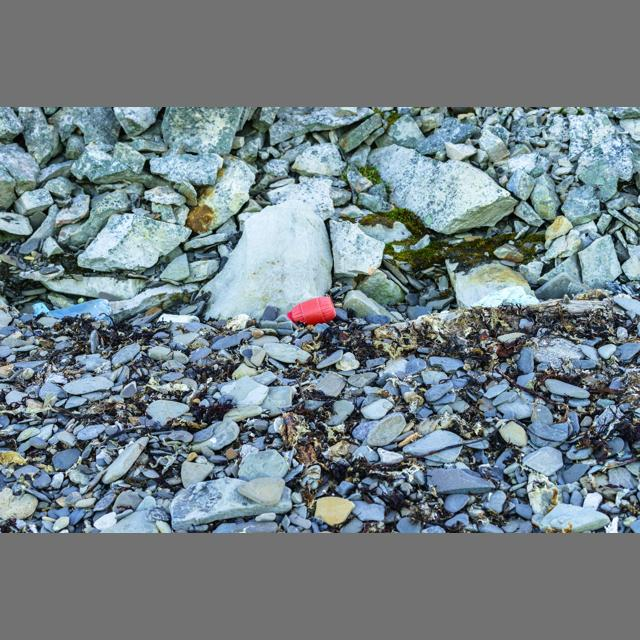litter: (287, 297, 336, 327), (222, 313, 251, 332), (156, 313, 200, 323), (287, 312, 294, 323)
